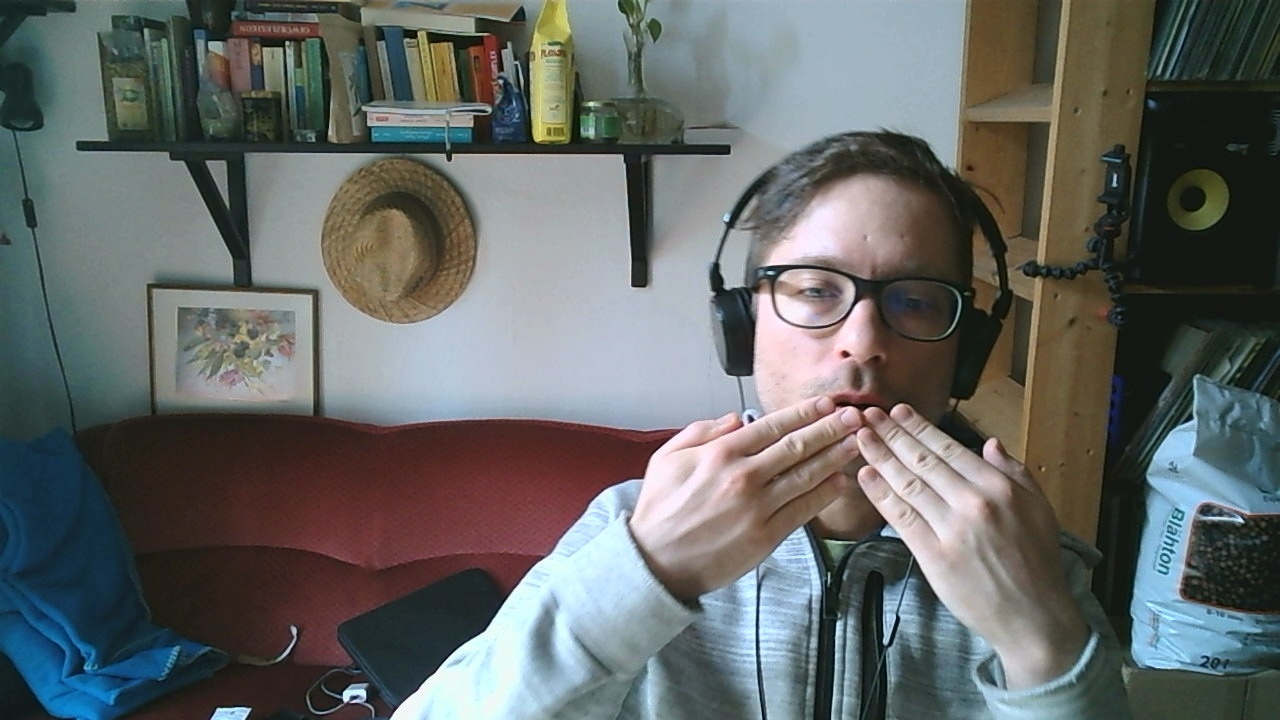thanks: (635, 392, 1059, 642)
